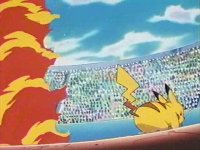pikachu: (113, 62, 186, 137)
